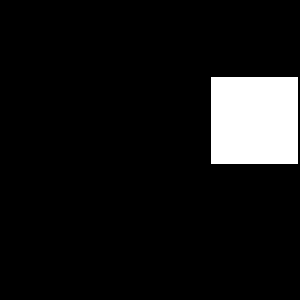circle: (211, 77, 298, 164)
